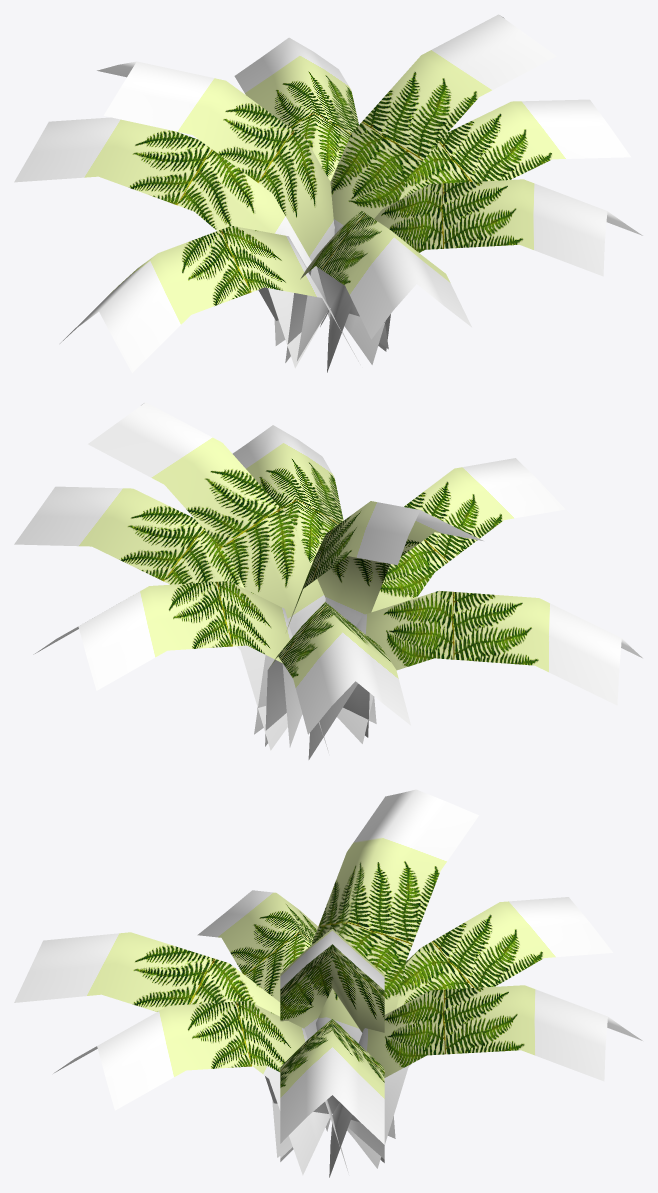
File: Fern_Vert_01.fbx
3 renders of one model, top to bottom at view 1: azimuth 30°, elevation 25°; view 2: azimuth 150°, elevation 25°; view 3: azimuth 270°, elevation 25°, orthographic.
Parts seen in each view (by area): view 1: Plane08; view 2: Plane08; view 3: Plane08.
Boxes of the visible parts, box(x1,y1,x2,y2) form: Plane08: box(14, 14, 642, 372); Plane08: box(14, 402, 642, 759); Plane08: box(14, 789, 642, 1177).
Size of the model in its own units: 1.83 by 0.925 by 1.78.
